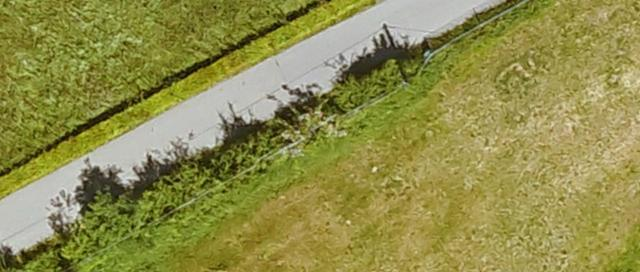tree: (86, 189, 142, 249)
